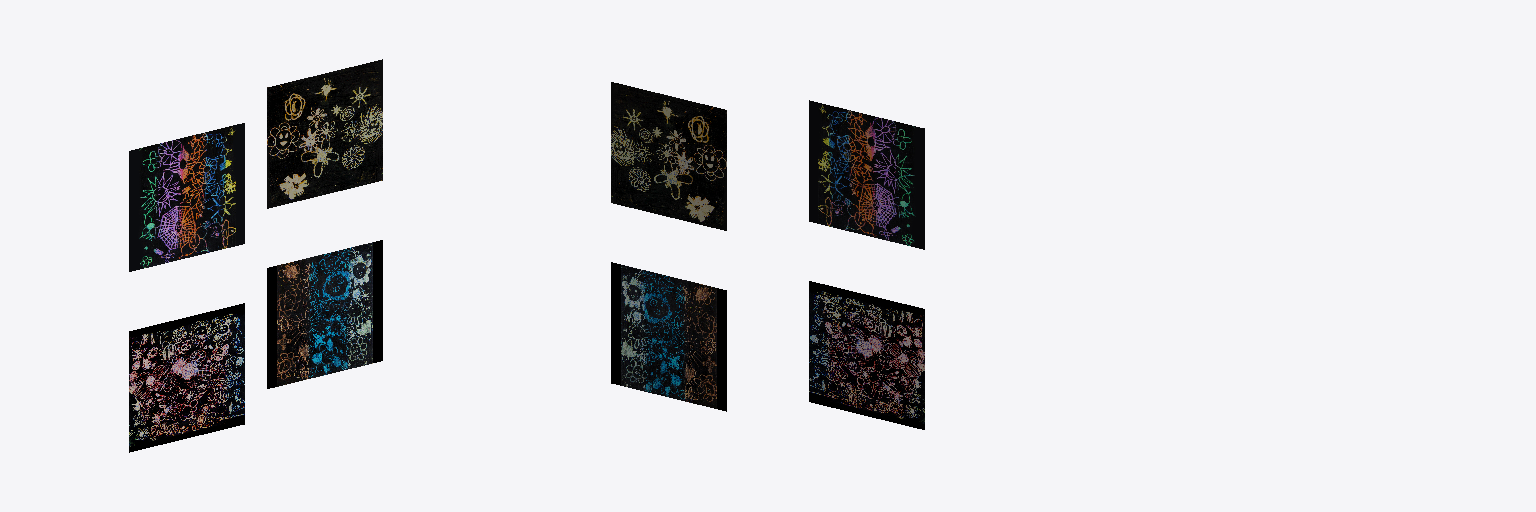
3 views of the same model, side by side, from view 1: azimuth 30°, elevation 25°; view 2: azimuth 150°, elevation 25°; view 3: azimuth 270°, elevation 25° (orthographic).
Visible parts, largest first — view 1: Plane.2, Plane, Plane.3, Plane.1; view 2: Plane.3, Plane.1, Plane.2, Plane; view 3: none.
Part boxes in pixels (x1,y1,x2,y2): Plane.2: (129, 123, 244, 271); Plane: (267, 240, 382, 388); Plane.3: (267, 59, 382, 208); Plane.1: (129, 303, 244, 452); Plane.3: (611, 82, 726, 230); Plane.1: (809, 281, 924, 429); Plane.2: (809, 100, 924, 249); Plane: (611, 262, 726, 411).
Bounding box in the file's own units: 979 × 995 × 182.
Materials: 4 (4 with a texture image).